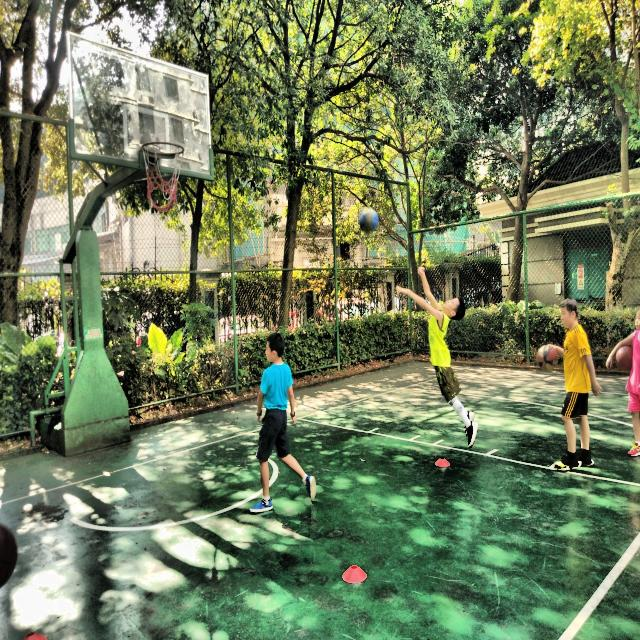board: (354, 202, 384, 240)
rim: (142, 140, 186, 209)
